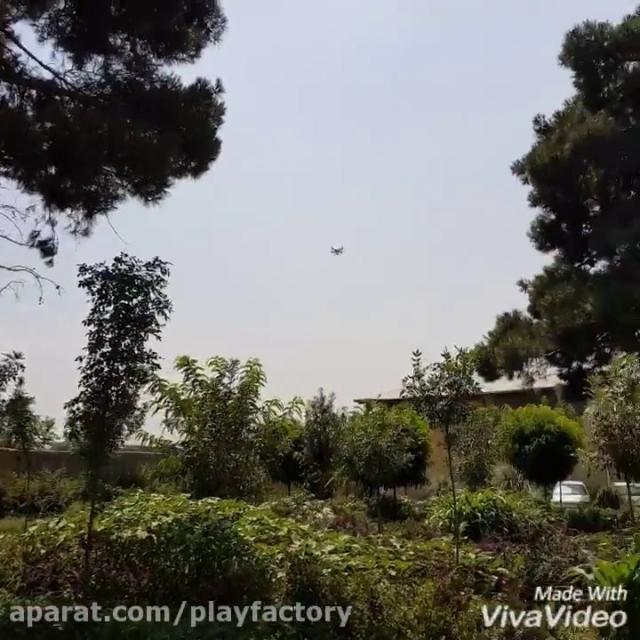drone: (322, 237, 352, 261)
